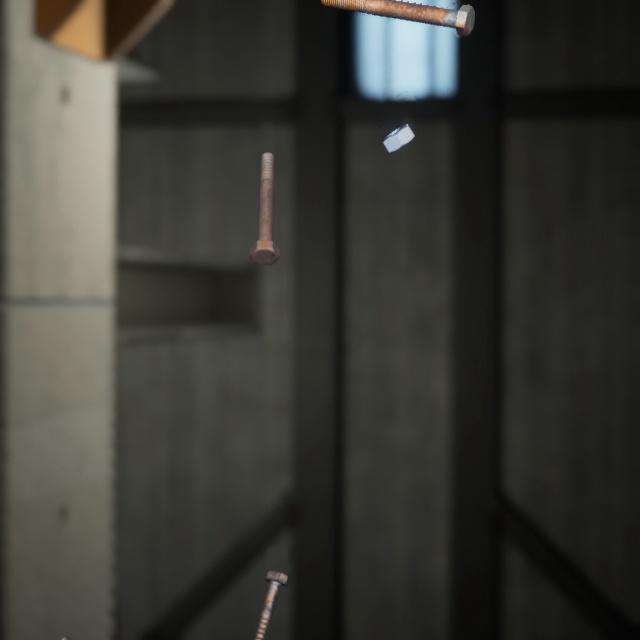bolt: (319, 0, 479, 34), (243, 541, 293, 640), (244, 132, 284, 254), (52, 606, 98, 640)
nut: (377, 108, 419, 145)
